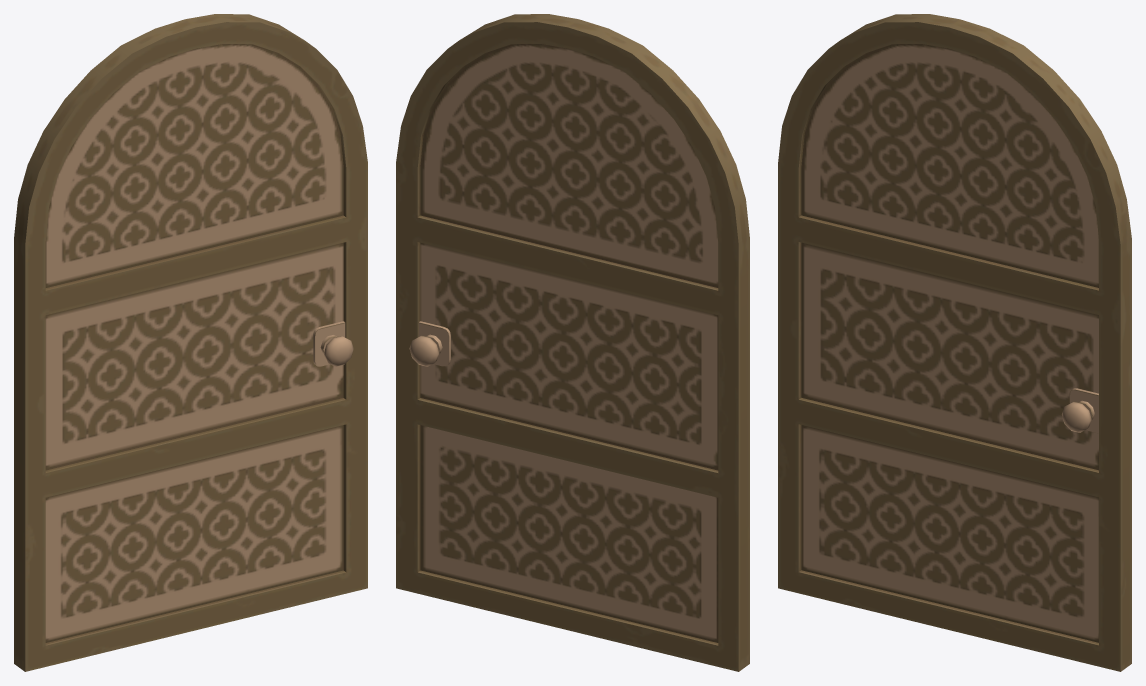
Rendered from ARC0510100.fbx.
3 renders of one model, left to right at view 1: azimuth 30°, elevation 25°; view 2: azimuth 150°, elevation 25°; view 3: azimuth 330°, elevation 25°, orthographic.
Parts seen in each view (by area): view 1: smARC0510100; view 2: smARC0510100; view 3: smARC0510100.
Boxes of the visible parts, bbox=[...] form: smARC0510100: bbox=[14, 14, 367, 671]; smARC0510100: bbox=[396, 14, 749, 671]; smARC0510100: bbox=[778, 14, 1131, 671].
Bounding box in the file's own units: 140 × 235 × 24.61.
1 material, 1 textured.
